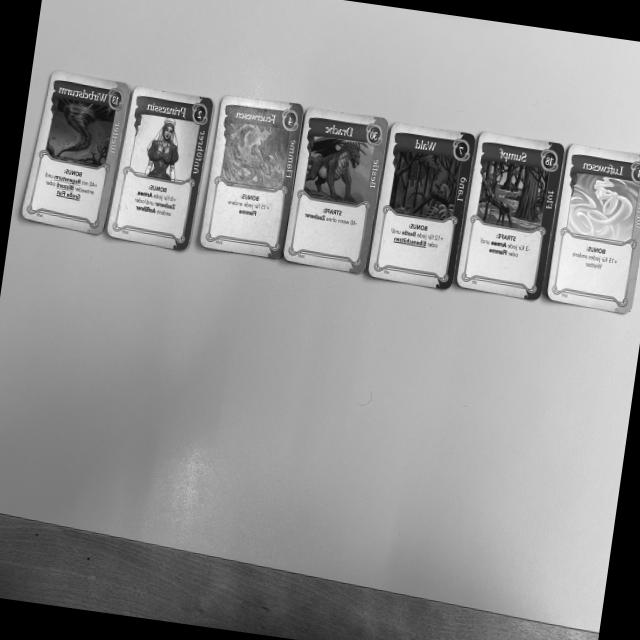Air Elemental: (541, 141, 640, 318)
Dragon: (280, 108, 390, 277)
Fire Elemental: (197, 88, 307, 262)
Forest: (366, 120, 476, 294)
Princess: (105, 80, 220, 253)
Swamp: (454, 129, 568, 300)
Whirlwind: (19, 66, 130, 231)
